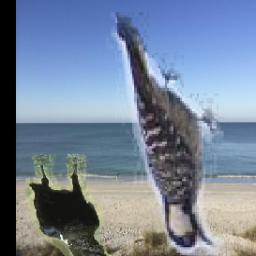Crow: (25, 154, 119, 256)
Woodpecker: (106, 4, 224, 256)
